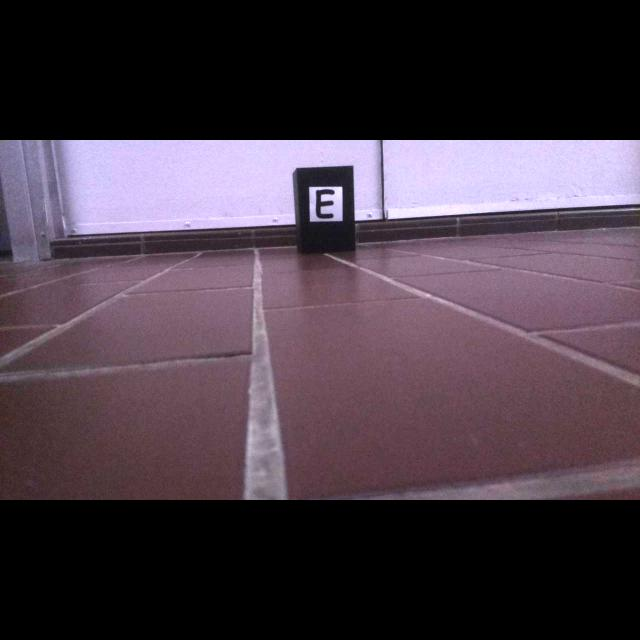E: (316, 189, 335, 219)
